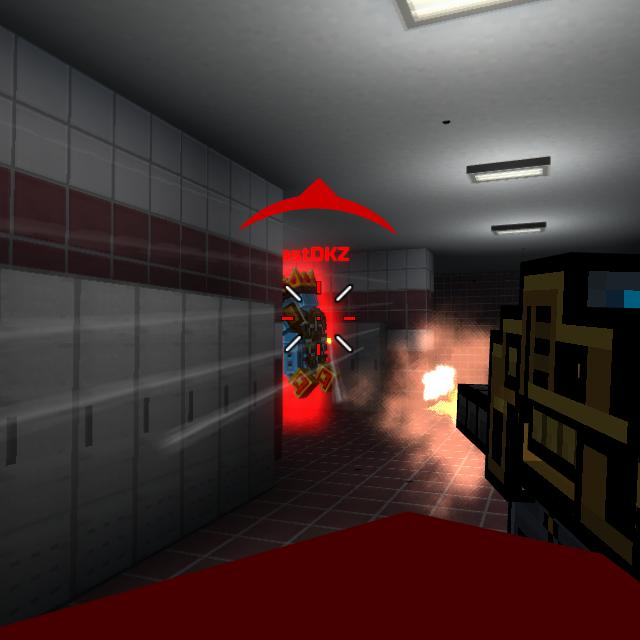Enemy: (281, 267, 340, 399)
